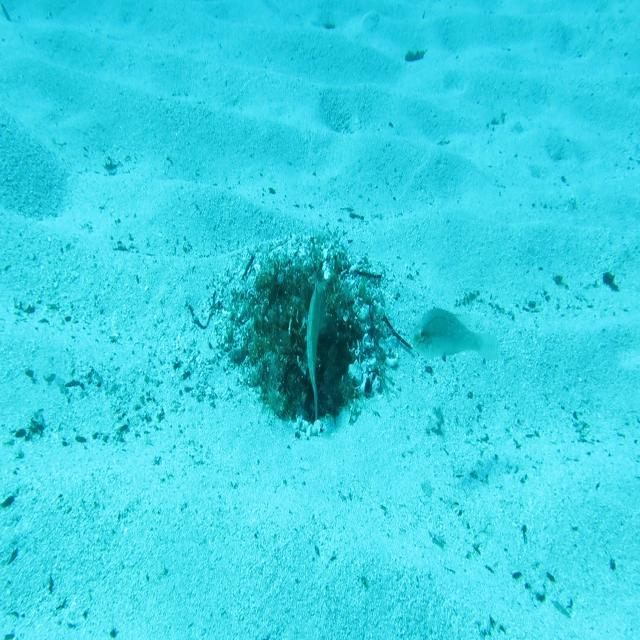FAN: (305, 270, 333, 430)
core_nest: (278, 278, 320, 304)
female: (408, 304, 501, 365)
nest: (211, 220, 409, 452)
vegetation: (601, 269, 620, 294), (406, 46, 426, 62)
